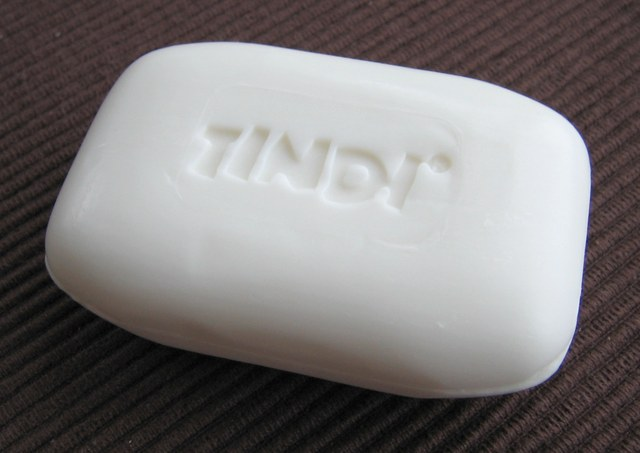Mee Mee Baby Wipes: (32, 23, 608, 430)
